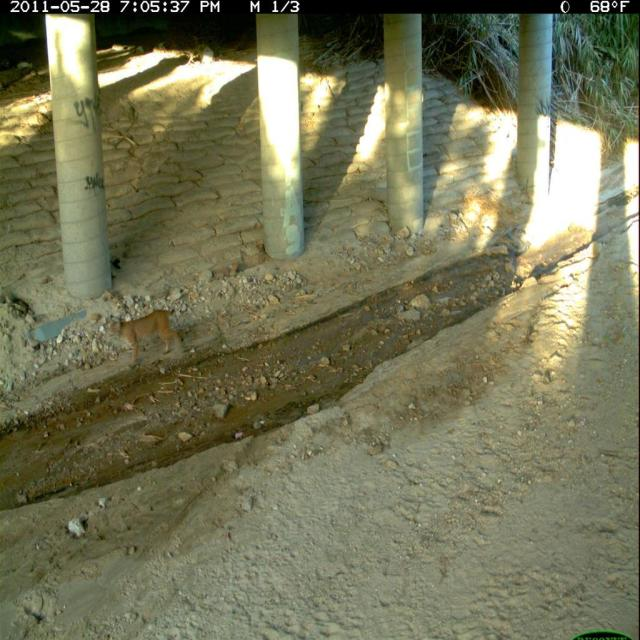bobcat: (104, 303, 186, 373)
